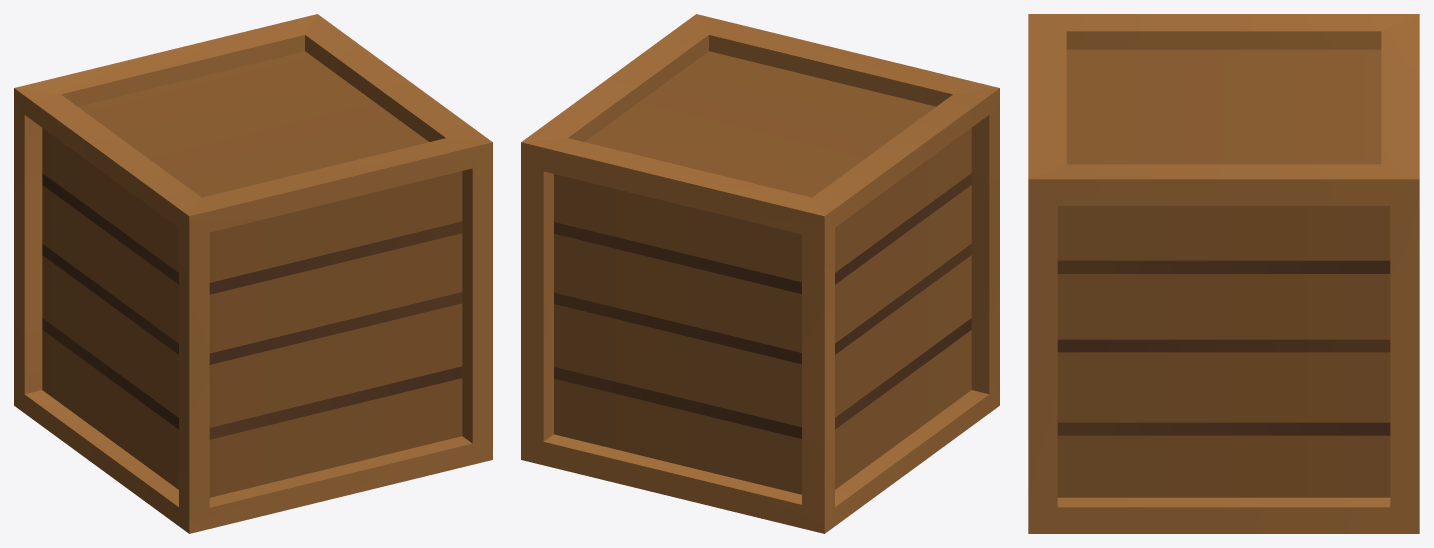
File: Crate_01.fbx
The picture shows the model from 3 angles, left to right: view 1: azimuth 30°, elevation 25°; view 2: azimuth 150°, elevation 25°; view 3: azimuth 270°, elevation 25°; orthographic projection. The views are drawn at different scales.
Visible parts, largest first — view 1: Crate_01; view 2: Crate_01; view 3: Crate_01.
Part boxes in pixels (x1,y1,x2,y2): Crate_01: (14, 14, 492, 533); Crate_01: (521, 14, 999, 533); Crate_01: (1028, 14, 1419, 533).
Size of the model in its own units: 1 by 1 by 1.
